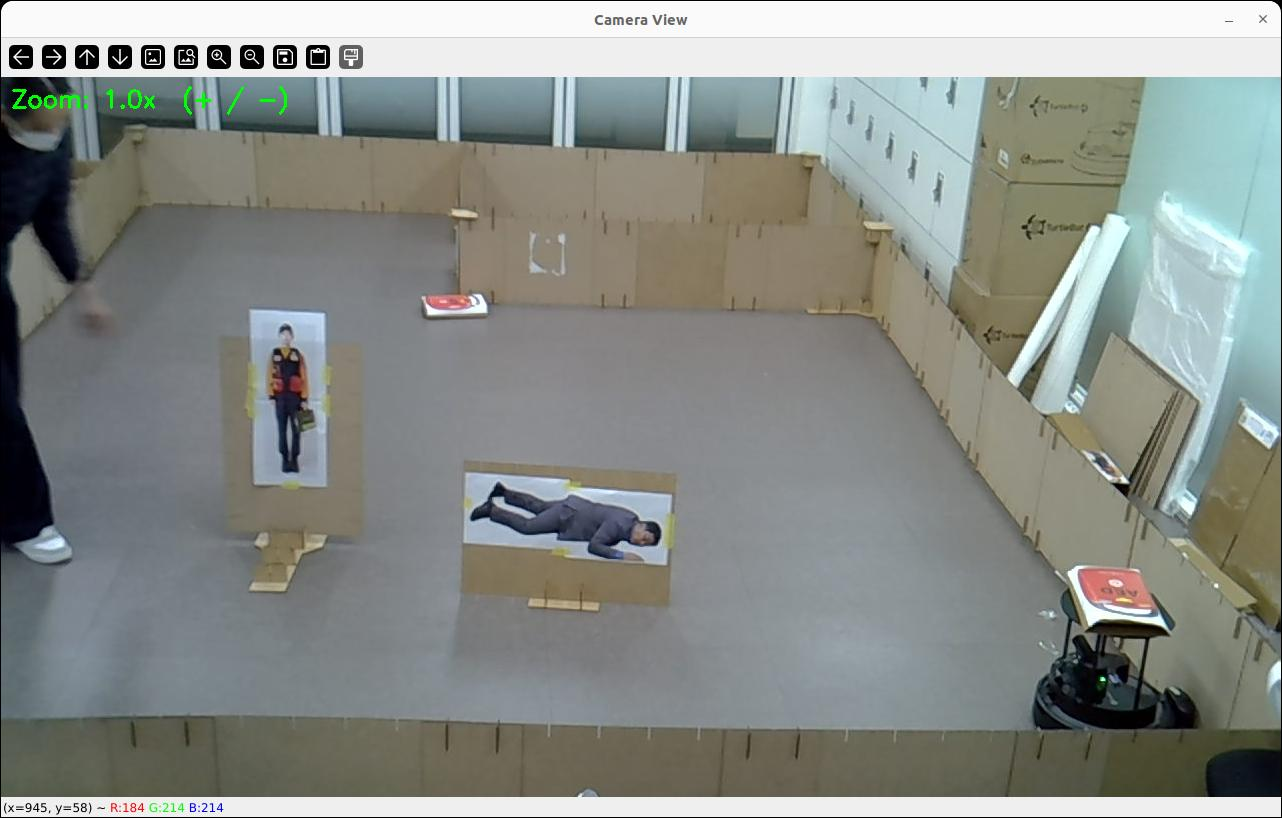Patient: (472, 483, 661, 559)
Responder: (266, 324, 309, 472)
Robot: (1034, 591, 1165, 729)
